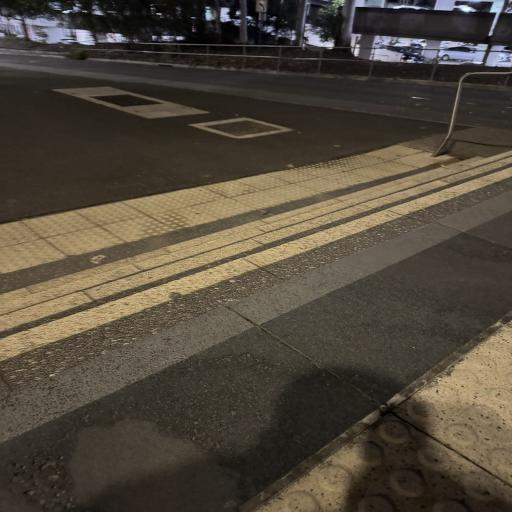step: (0, 153, 512, 361)
